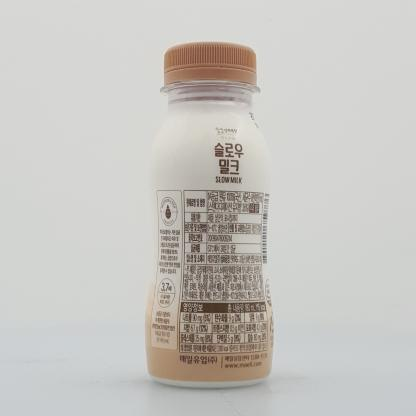----------180ML: (144, 41, 274, 389)
